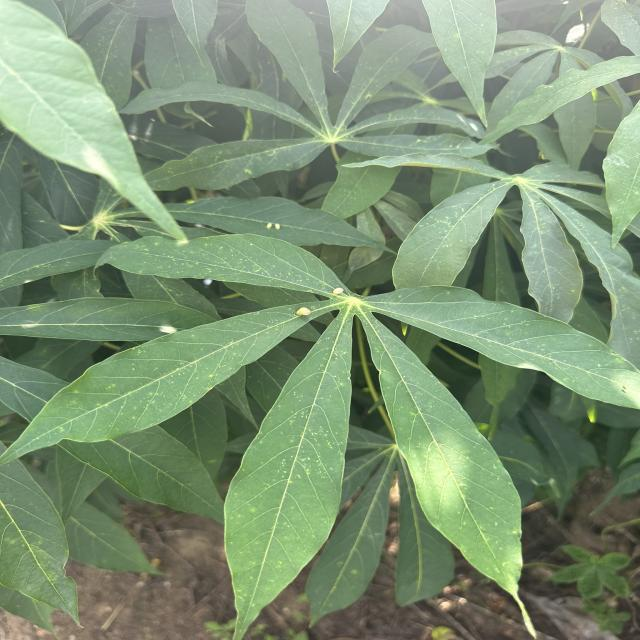Mosca: (282, 303, 311, 319), (262, 215, 283, 232)
